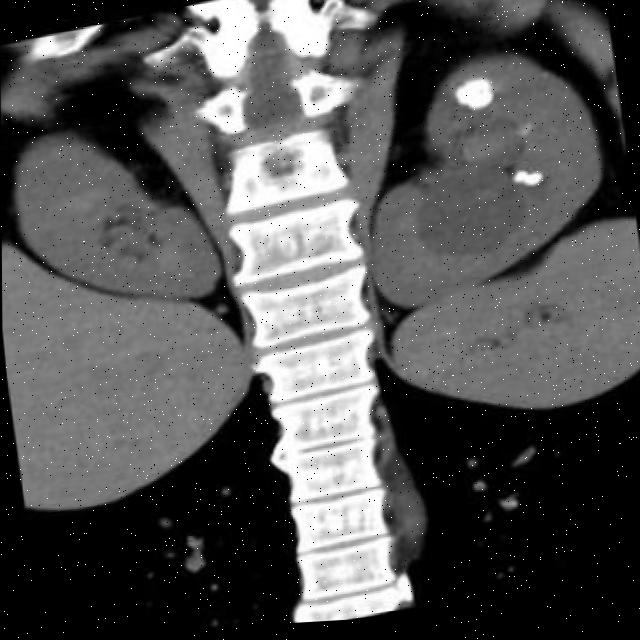Tas_Var: (454, 80, 499, 112), (467, 93, 498, 116), (522, 173, 545, 196), (510, 173, 528, 193)
